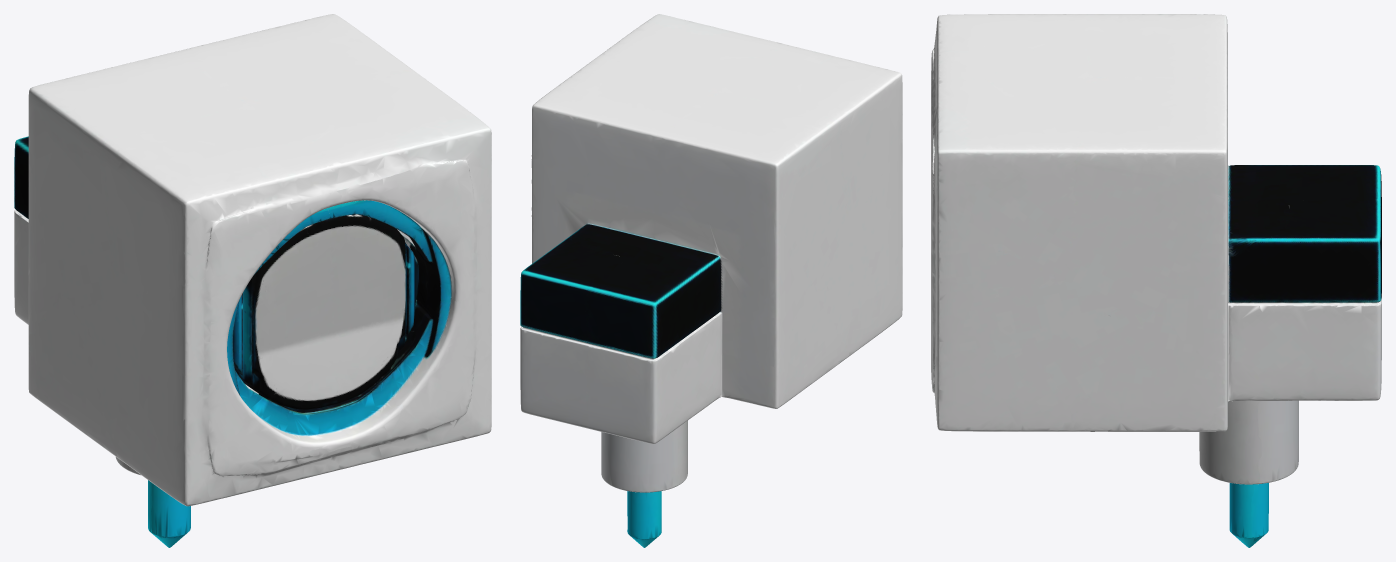
The model's file is extruder-head.optimized.glb.
3 renders of one model, left to right at view 1: azimuth 30°, elevation 25°; view 2: azimuth 150°, elevation 25°; view 3: azimuth 270°, elevation 25°, orthographic. The views are drawn at different scales.
Bounding box in the file's own units: 1.21 × 1.9 × 1.66.
1 material, 1 textured.
